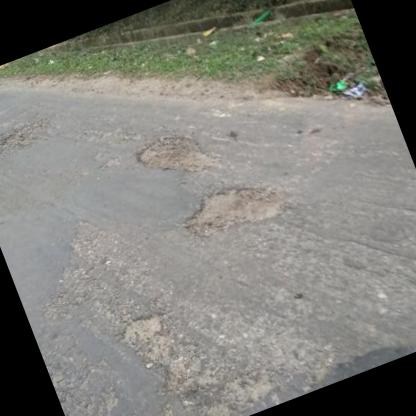pothole: (174, 166, 288, 251), (128, 120, 220, 194), (112, 306, 169, 355), (0, 115, 50, 158)
